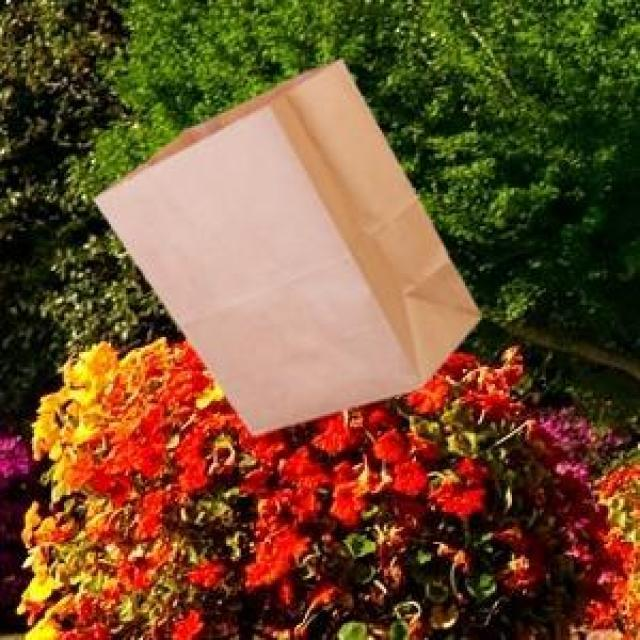paper: (90, 56, 476, 431)
